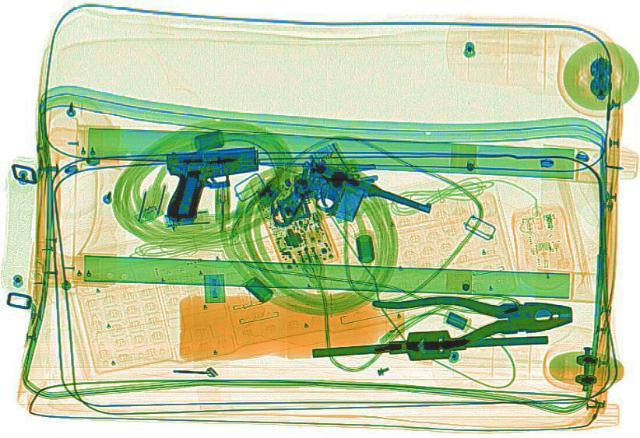Gun: (252, 158, 434, 262), (164, 145, 258, 221)
Pliers: (368, 283, 576, 354)
